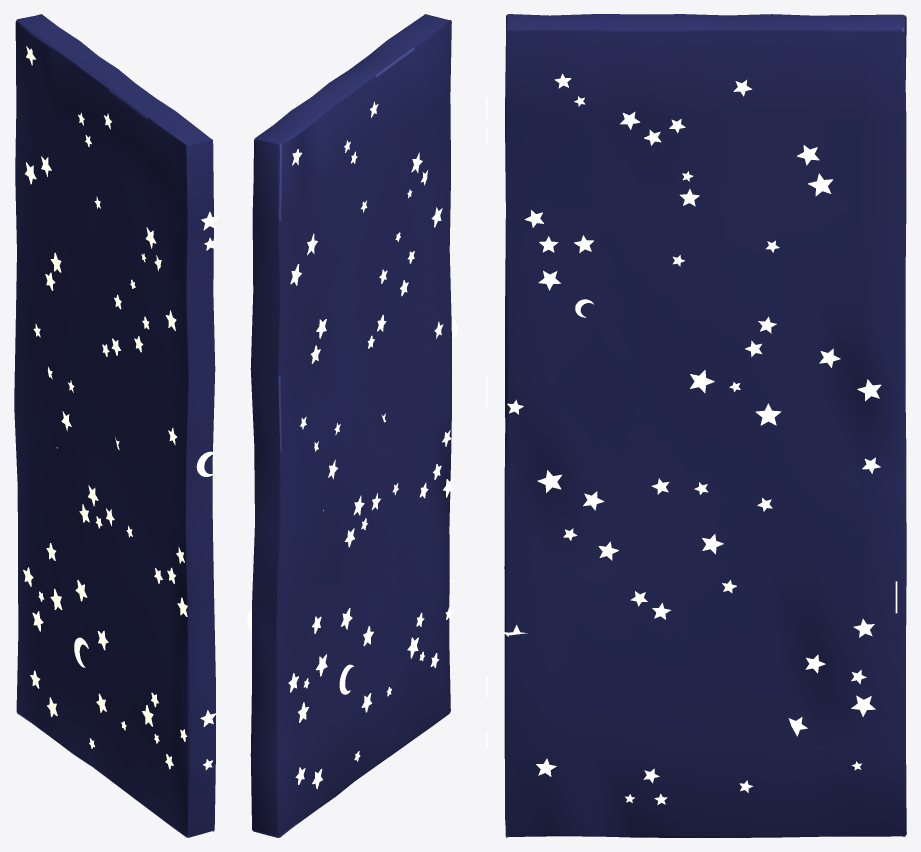
The model's file is den_night_panel.glb.
3 views of the same model, side by side, from view 1: azimuth 30°, elevation 25°; view 2: azimuth 150°, elevation 25°; view 3: azimuth 270°, elevation 25° (orthographic). The views are drawn at different scales.
Parts seen in each view (by area): view 1: den_night_panel; view 2: den_night_panel; view 3: den_night_panel.
Boxes of the visible parts, bbox=[...] form: den_night_panel: bbox=[14, 14, 218, 837]; den_night_panel: bbox=[247, 14, 457, 837]; den_night_panel: bbox=[486, 14, 906, 837].
Bounding box in the file's own units: 2.01 × 35.02 × 16.47.
